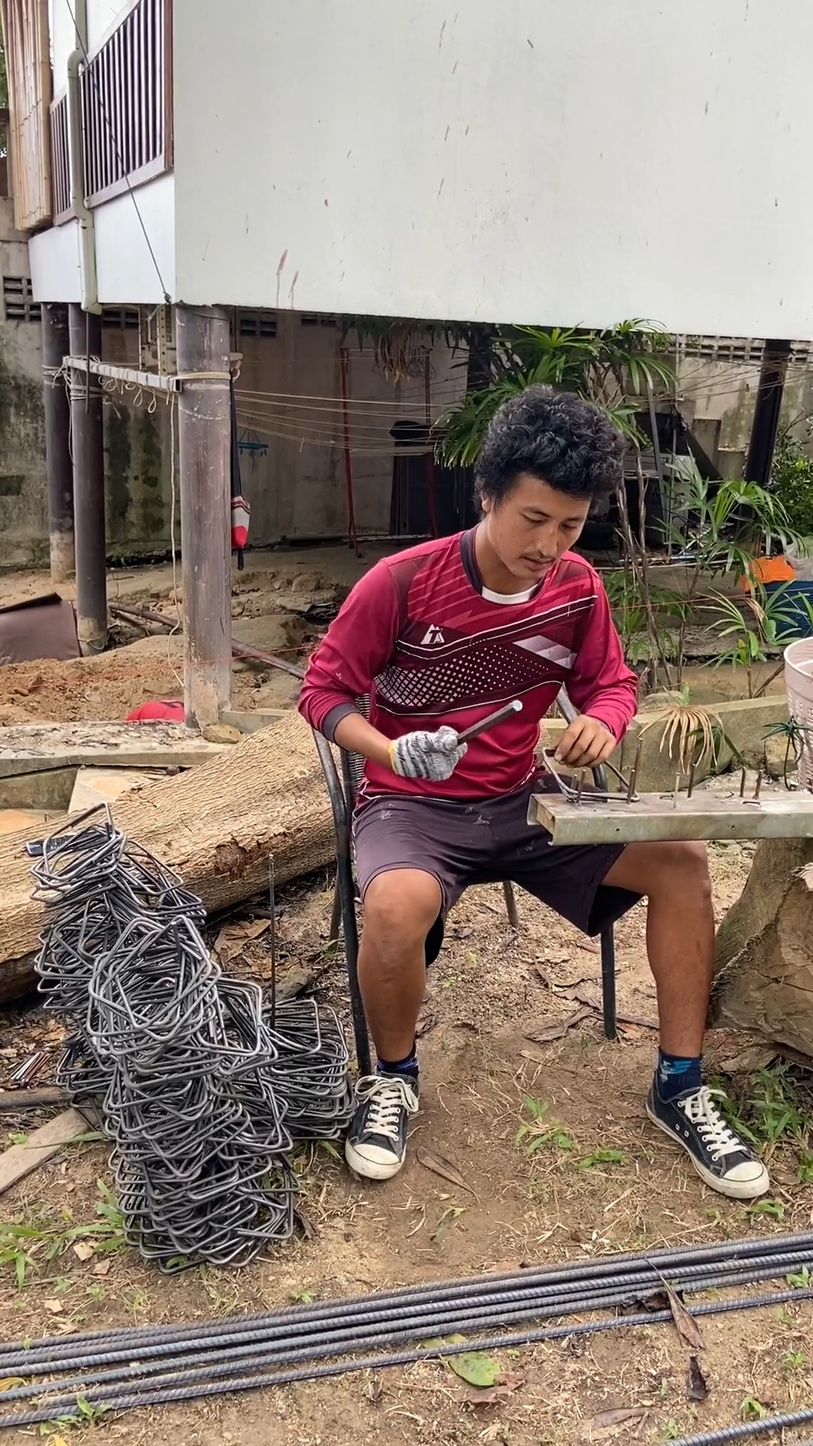No-gloves: (557, 703, 629, 782)
gloves: (386, 703, 483, 814)
